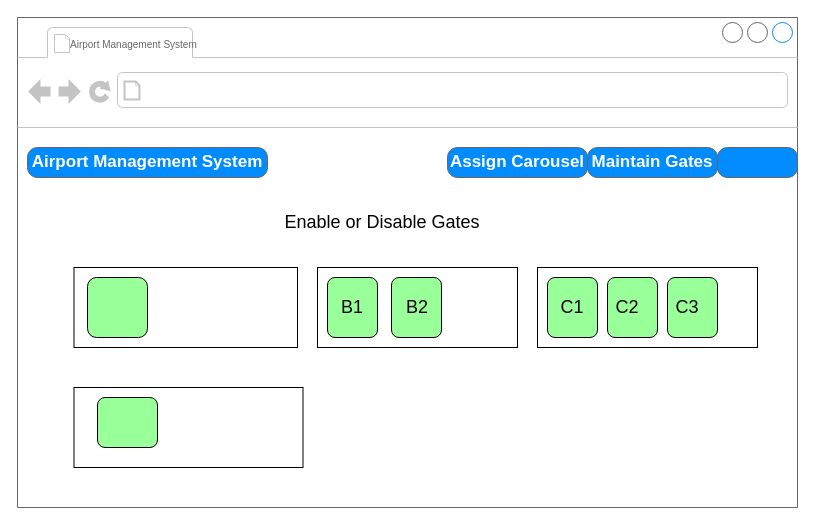
This 815x525 diagram has some shape labels left out. Each missing label, with the centre of its shape:
"A1" goes at (x=117, y=307).
"D1" goes at (x=127, y=422).
"localhost:3002/enabledisable" goes at (x=272, y=90).
"Logout" goes at (x=757, y=162).
